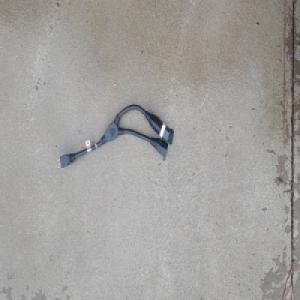Wire: (54, 101, 175, 170)
